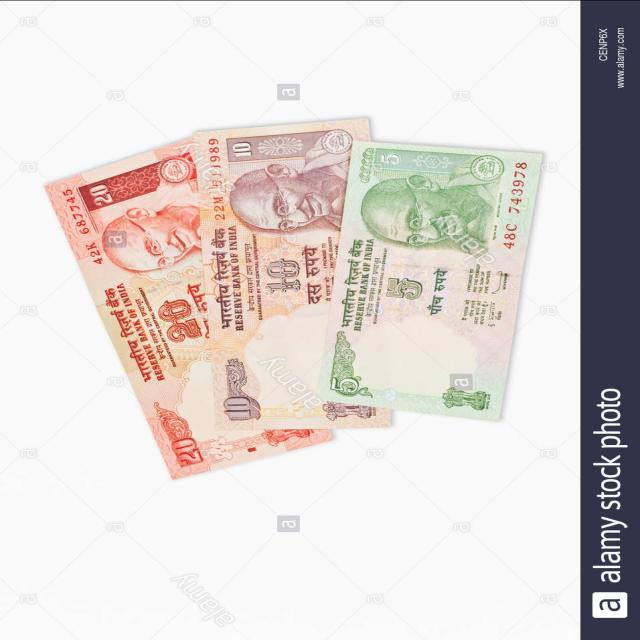20IndianRupees: (42, 137, 236, 470)
